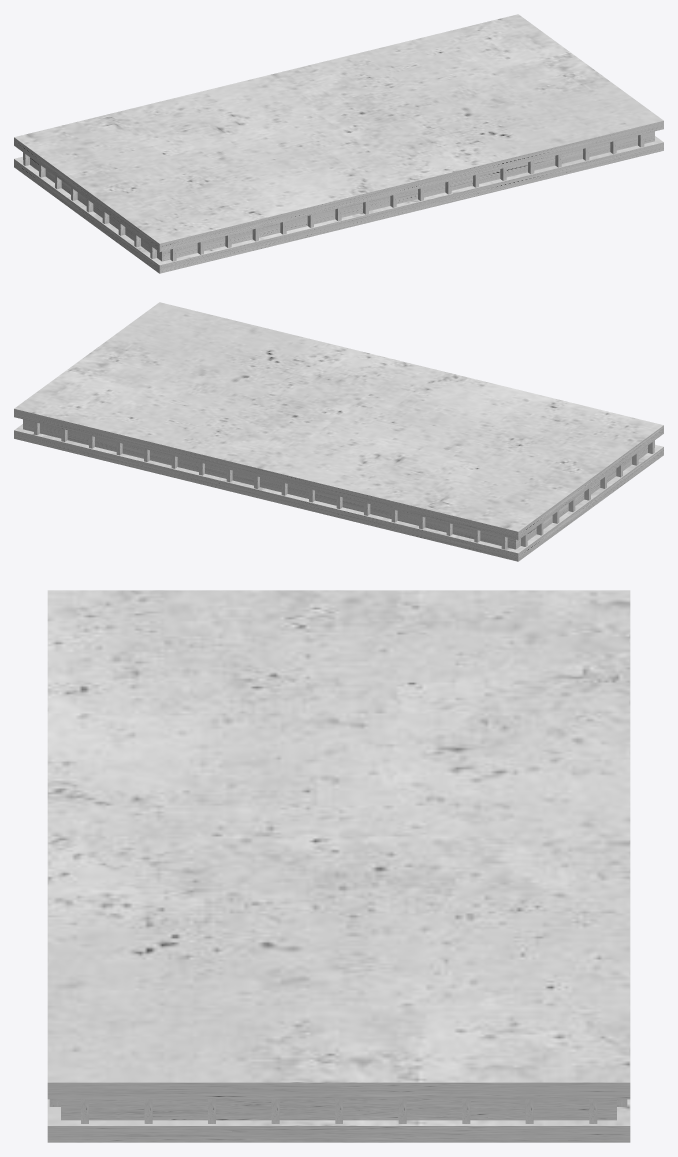
The model's file is Floor.gltf.
3 views of the same model, one above another, from view 1: azimuth 30°, elevation 25°; view 2: azimuth 150°, elevation 25°; view 3: azimuth 270°, elevation 25° (orthographic). The views are drawn at different scales.
Parts seen in each view (by area): view 1: 立方体.001; view 2: 立方体.001; view 3: 立方体.001.
Part boxes in pixels (x1,y1,x2,y2): 立方体.001: [14, 14, 663, 273]; 立方体.001: [14, 302, 663, 561]; 立方体.001: [47, 590, 630, 1142].
Size of the model in its own units: 880 by 50.02 by 440.
